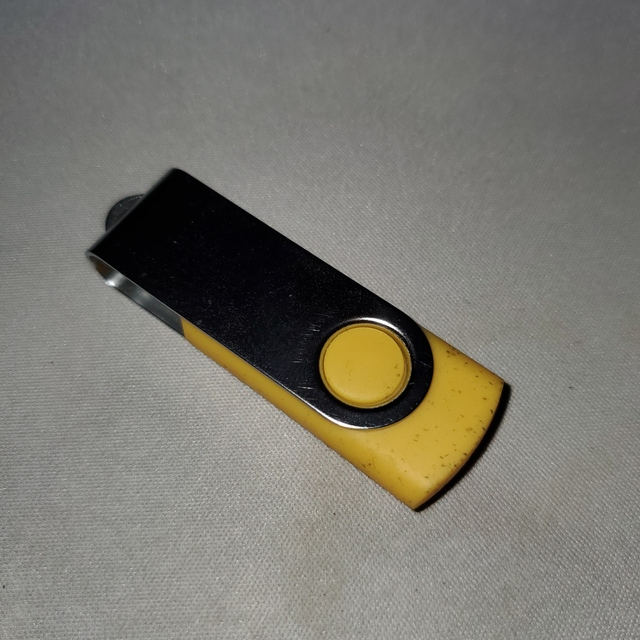usb_drive: (82, 161, 516, 523)
